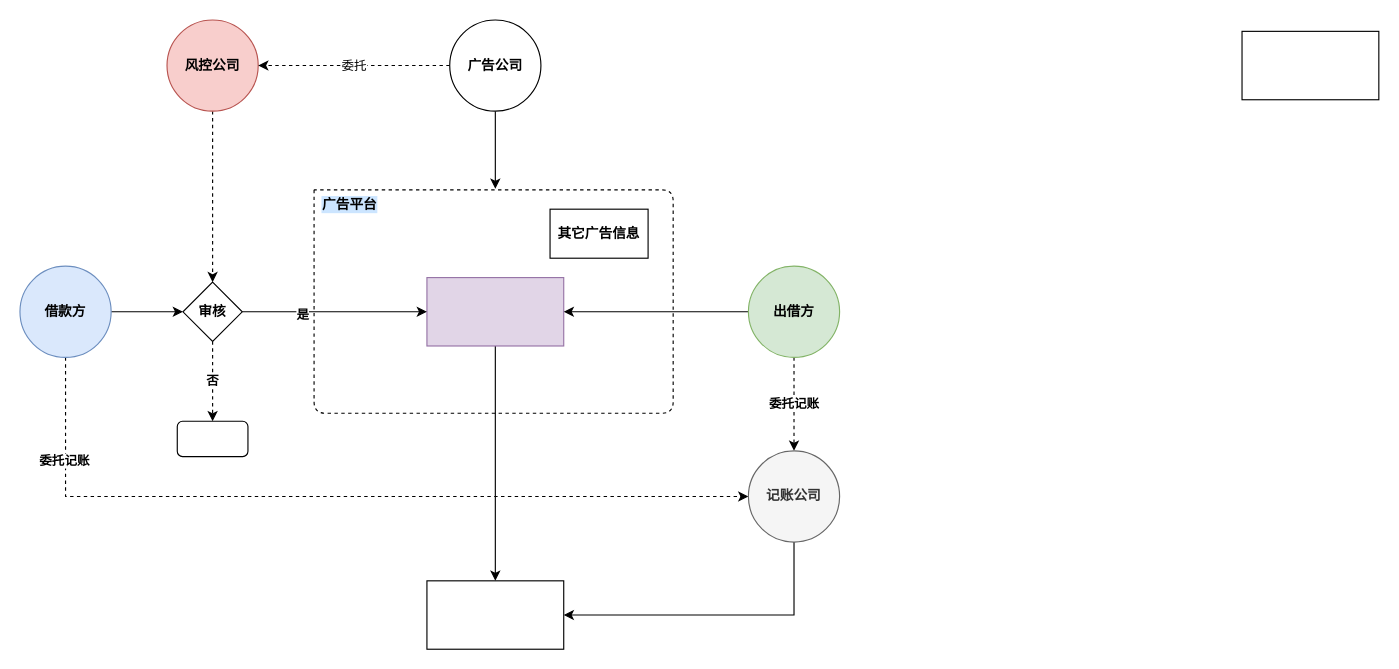
Some shapes in this 1399 by 669 pixel diagram are drawn without their labels. The centre of each missing label's shape, as x and y in pixels:
借款信息: point 1310,65
借款广告信息: point 495,311
线下转账: point 495,614
退出: point 212,438
